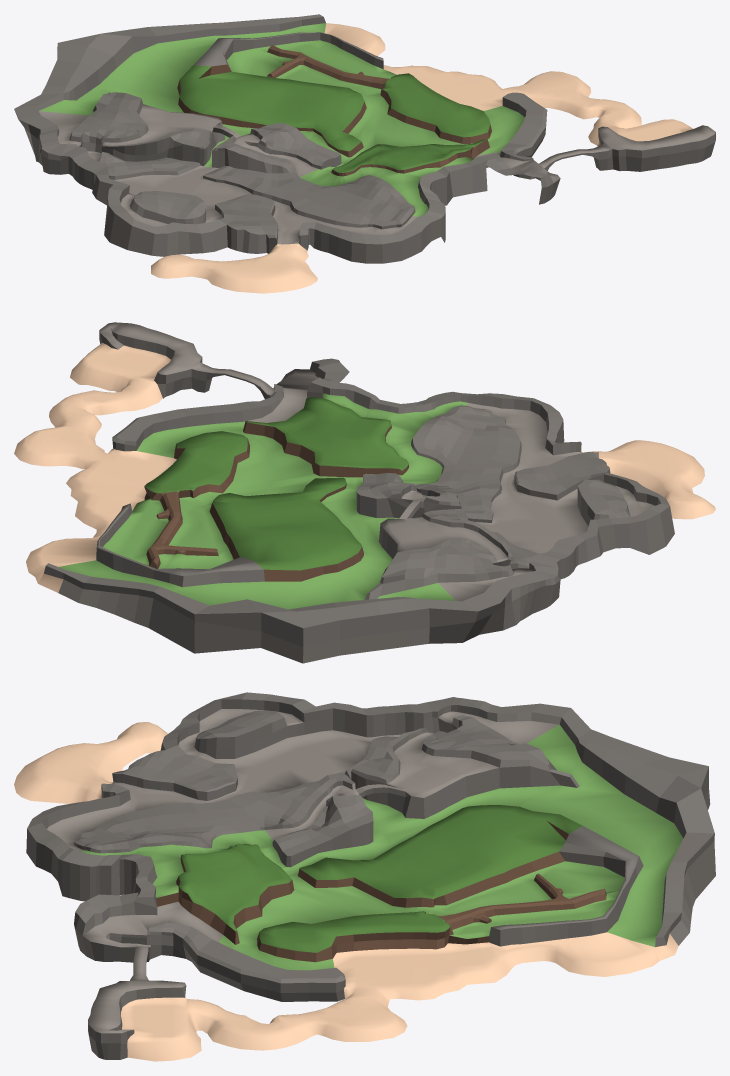
File: lvl2.obj
The picture shows the model from 3 angles, top to bottom: view 1: azimuth 30°, elevation 25°; view 2: azimuth 150°, elevation 25°; view 3: azimuth 270°, elevation 25°; orthographic projection. The views are drawn at different scales.
Parts seen in each view (by area): view 1: Lvl2; view 2: Lvl2; view 3: Lvl2.
Boxes of the visible parts, x1=… form: Lvl2: x1=14, y1=14, x2=715, y2=293; Lvl2: x1=14, y1=322, x2=715, y2=663; Lvl2: x1=14, y1=692, x2=715, y2=1061.
Size of the model in its own units: 171 by 14.48 by 151.
